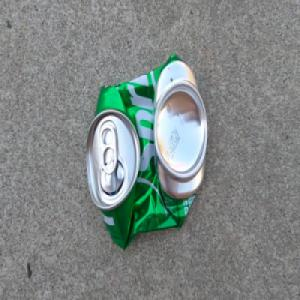SodaCan: (87, 53, 207, 250)
